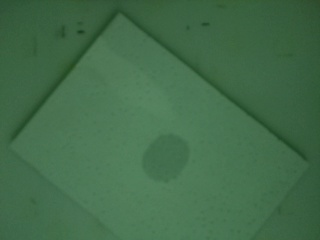Water_detected: (152, 141, 191, 187)
